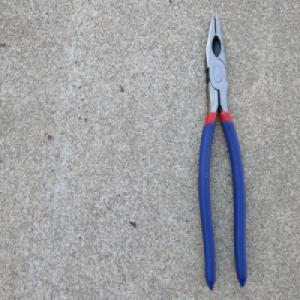Pliers: (196, 11, 249, 292)
